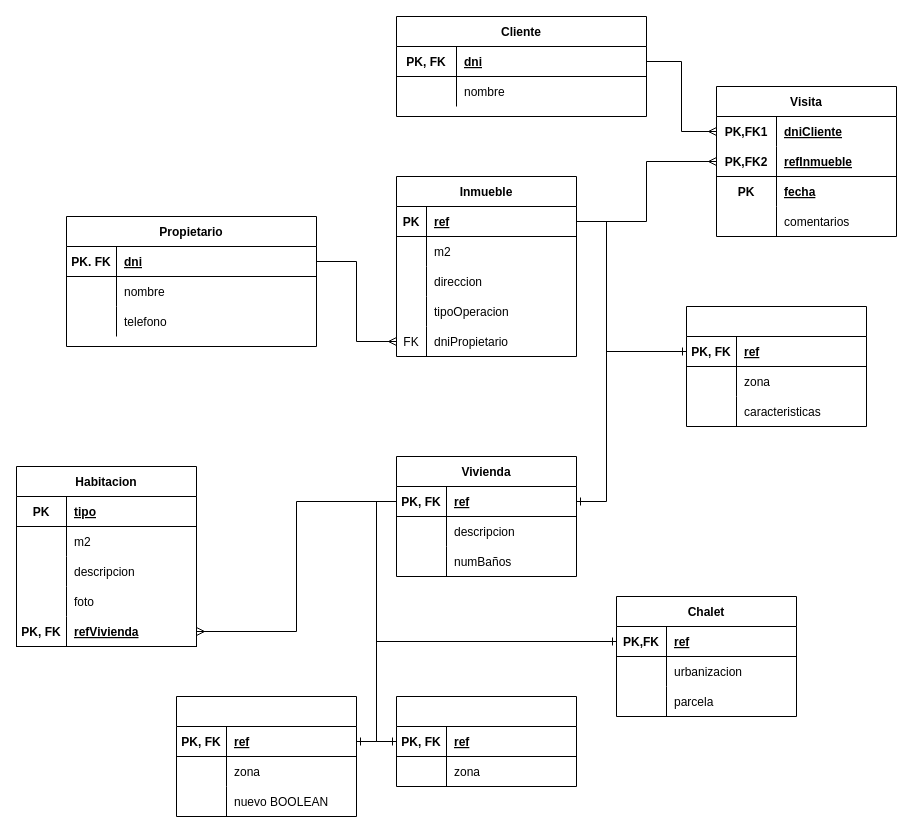
This 913x833 diagram has some shape labels left out. Each missing label, with the box of its shape:
Casa: (396, 696, 576, 786)
Local: (686, 306, 866, 426)
Piso: (176, 696, 356, 816)
